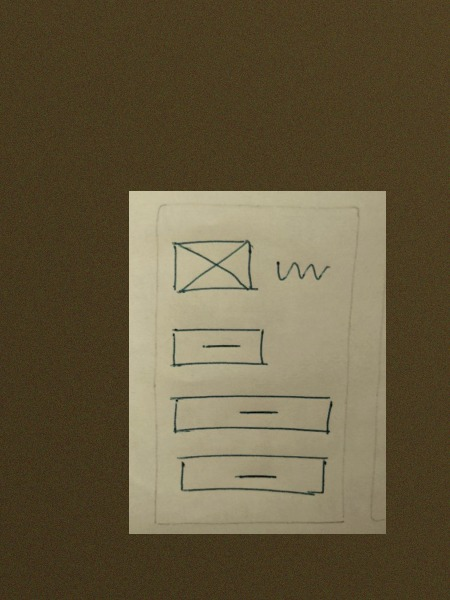button: (165, 392, 338, 437), (173, 452, 332, 499), (169, 326, 271, 373)
image: (169, 235, 263, 301)
text: (272, 259, 335, 285)
